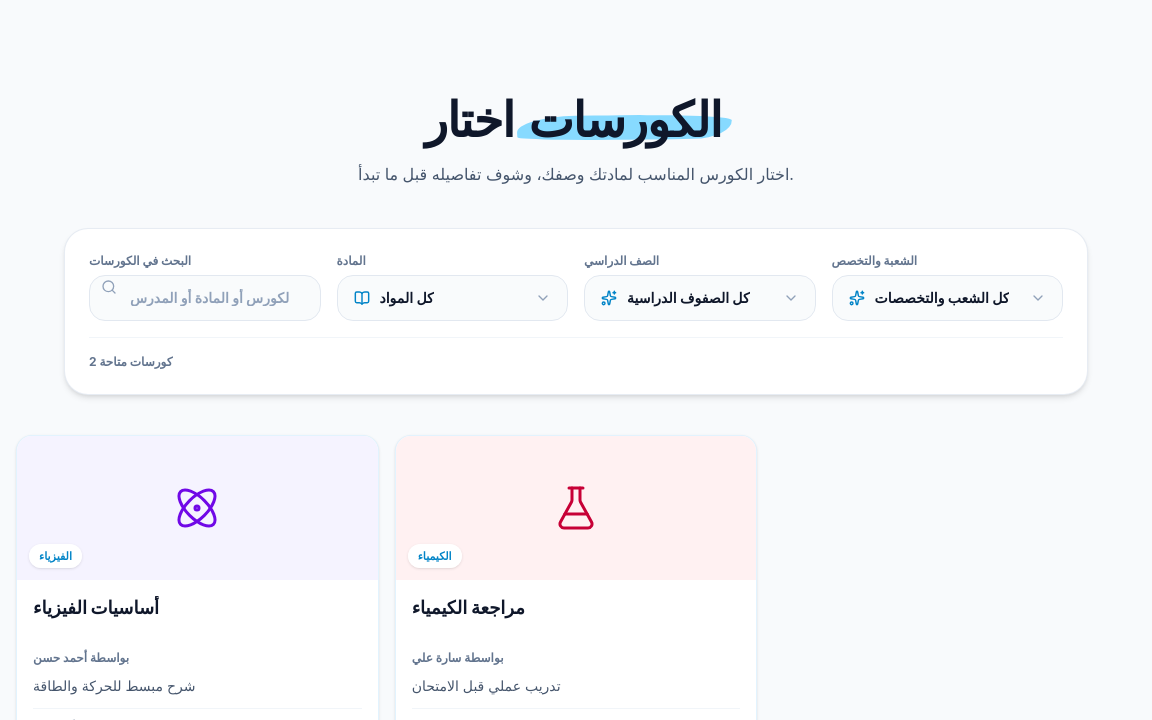
Test: CourseDiscovery › updates the visible result count when a student searches
Type "أحمد" into the search field labelled "البحث في الكورسات". click: (205, 298)
box: x1=89 y1=275 x2=320 y2=321
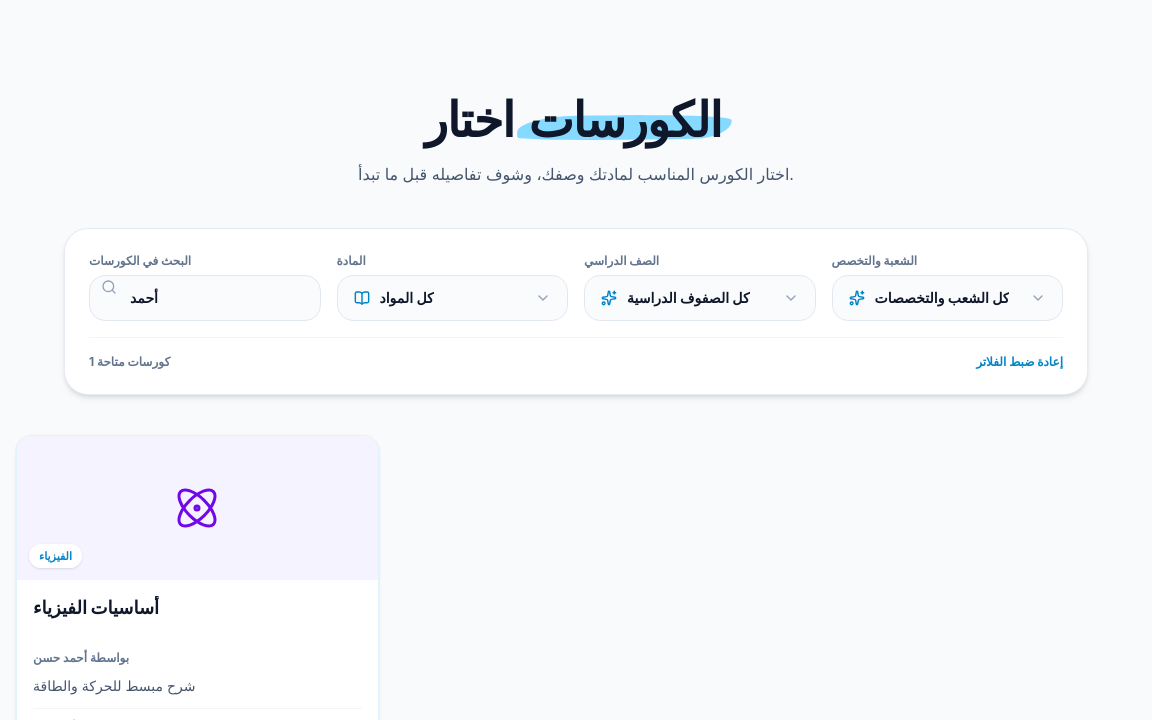
Expected: the heading "أساسيات الفيزياء" is shown, x1=33 y1=597 x2=159 y2=618
Result: the text "1 كورسات متاحة" is shown at x1=89 y1=354 x2=170 y2=370
Result: the link "مراجعة الكيمياء" is gone
